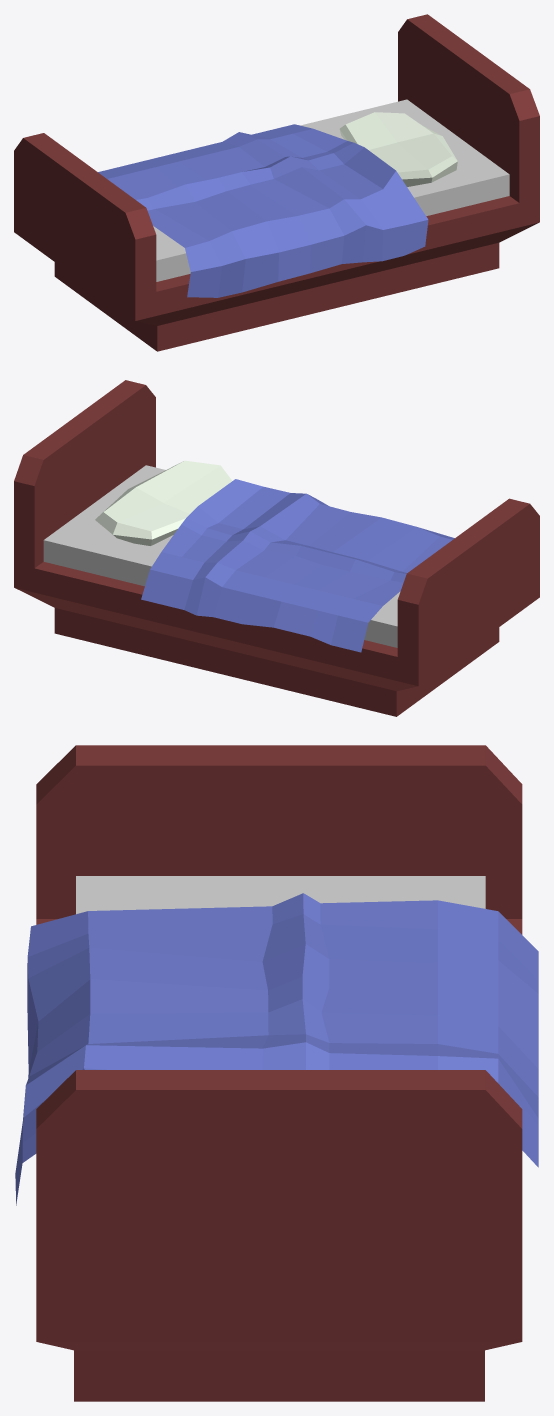
The model's file is bed01.fbx.
3 renders of one model, top to bottom at view 1: azimuth 30°, elevation 25°; view 2: azimuth 150°, elevation 25°; view 3: azimuth 270°, elevation 25°, orthographic. The views are drawn at different scales.
Visible parts, largest first — view 1: Bed; view 2: Bed; view 3: Bed.
Boxes of the visible parts, x1,y1,x2,y2 form: Bed: [14, 14, 539, 351]; Bed: [14, 380, 539, 716]; Bed: [15, 745, 538, 1401].
Bounding box in the file's own units: 87.92 × 35.53 × 49.25.
